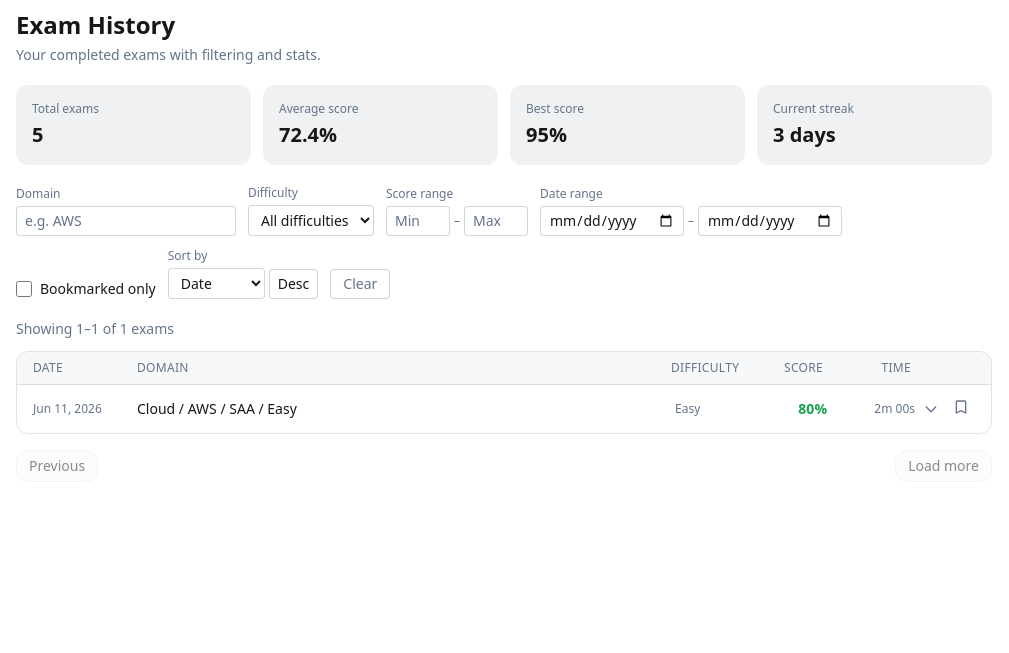
<HistoryRow> — expand shows details and retake actions › clicking a row expands to show View details link and Retake buttons
Check: the text "Cloud / AWS / SAA / Easy" is shown, box top-left (137, 399), bottom-right (297, 418)
What coordinates should you click on to do the following:
click the button "Jun 11, 2026 Cloud / AWS / SAA / Easy Easy 80% 2m 00s"
I would click on:
 (67, 408)
Its box is top-left (33, 399), bottom-right (939, 419).
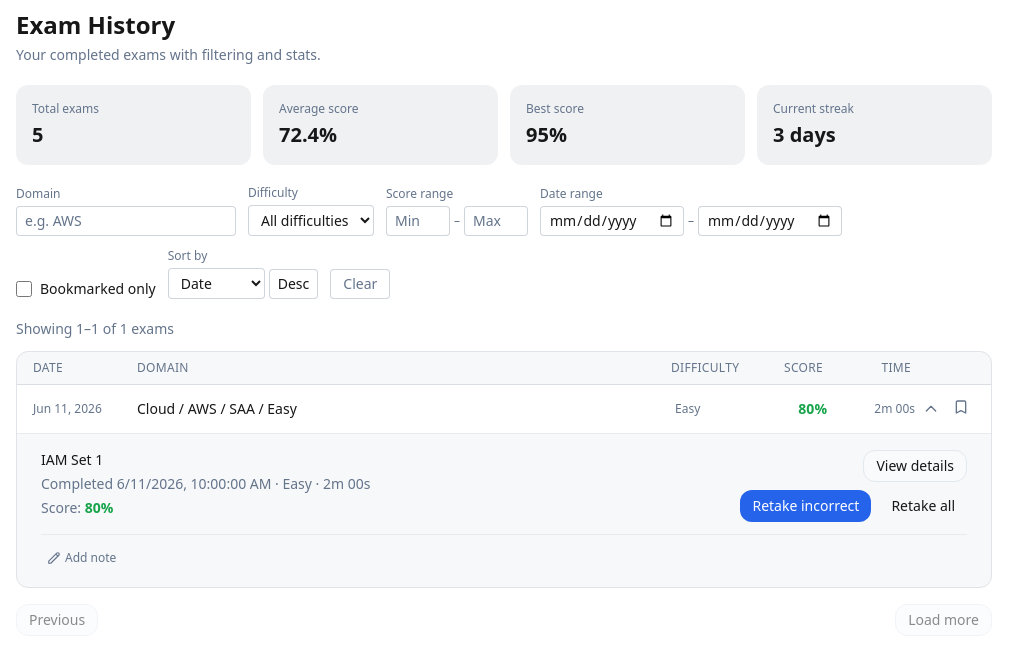
Check: the link "View details" is shown, box top-left (863, 450), bottom-right (967, 482)
Check: the button "Retake incorrect" is shown, box top-left (740, 490), bottom-right (871, 522)
Check: the button "Retake all" is shown, box top-left (879, 490), bottom-right (967, 522)
